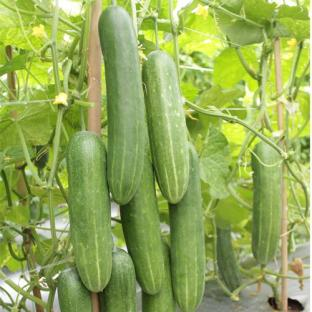Cucumber: (99, 6, 145, 204), (67, 132, 111, 292), (143, 51, 189, 203), (120, 156, 164, 294), (170, 144, 205, 311), (252, 142, 282, 263), (142, 239, 176, 311), (100, 249, 137, 311), (217, 228, 242, 291), (57, 268, 92, 311), (34, 150, 49, 169)
